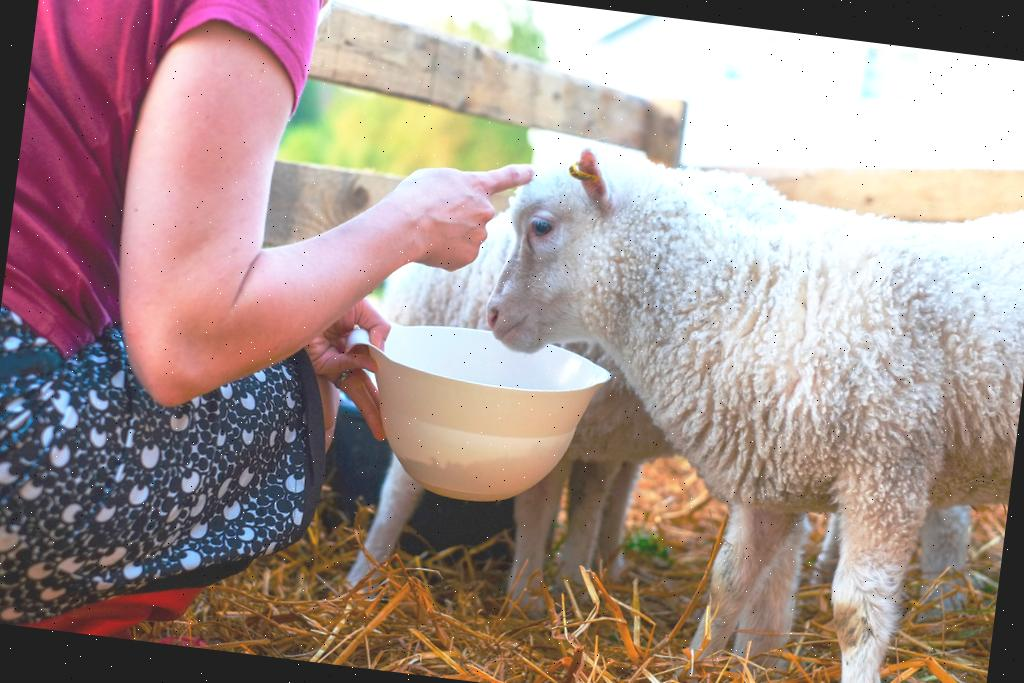Sheep: (439, 138, 1024, 683)
